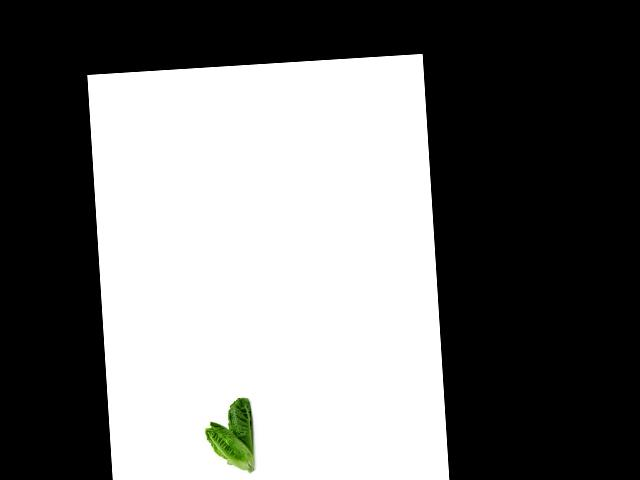lettuce: (225, 392, 259, 458)
